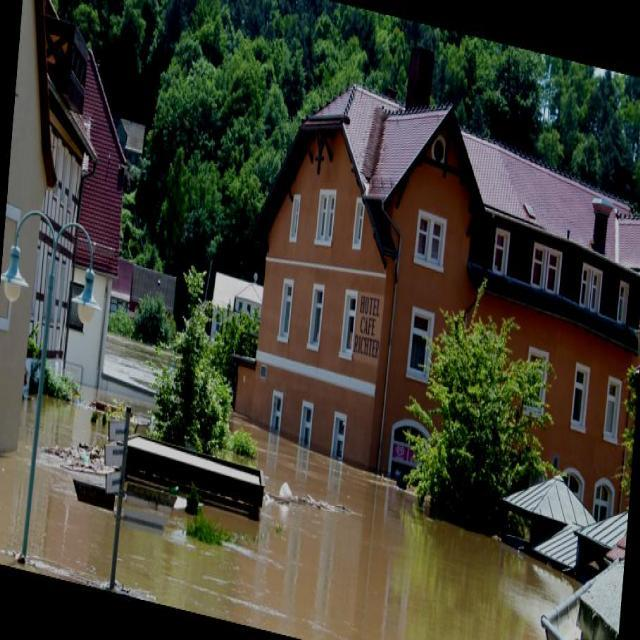flood: (0, 371, 594, 639)
